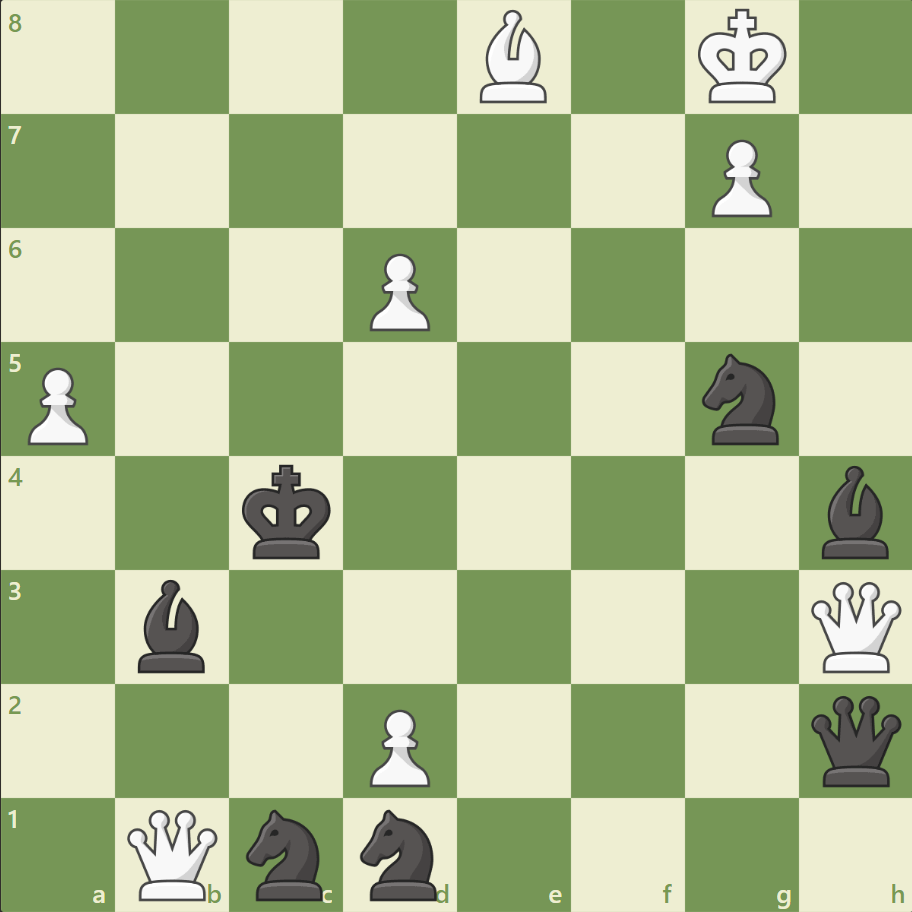B: (471, 6, 555, 109)
K: (692, 4, 792, 112)
P: (701, 132, 776, 223), (20, 359, 95, 450), (361, 246, 435, 337), (361, 700, 435, 791)
Q: (805, 576, 904, 676), (124, 804, 223, 903)
b: (812, 460, 896, 563), (131, 574, 215, 676)
k: (238, 458, 338, 566)
n: (351, 802, 449, 904), (692, 348, 789, 450), (238, 802, 335, 904)
q: (805, 690, 904, 789)
